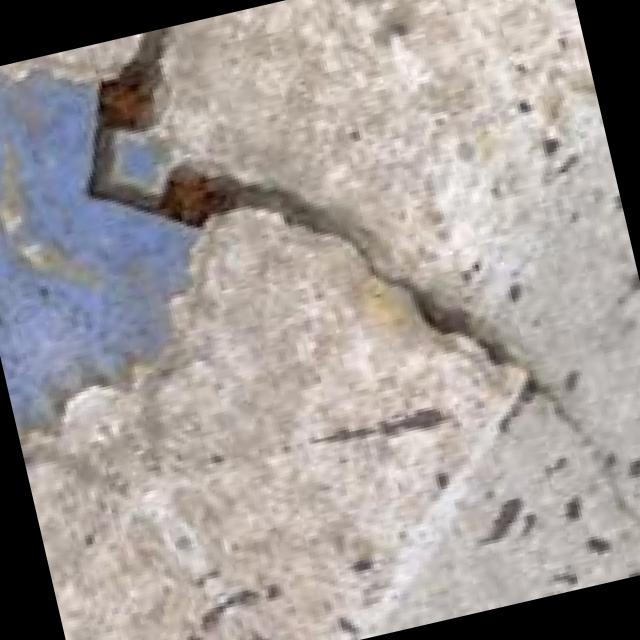crack: (38, 0, 523, 467)
